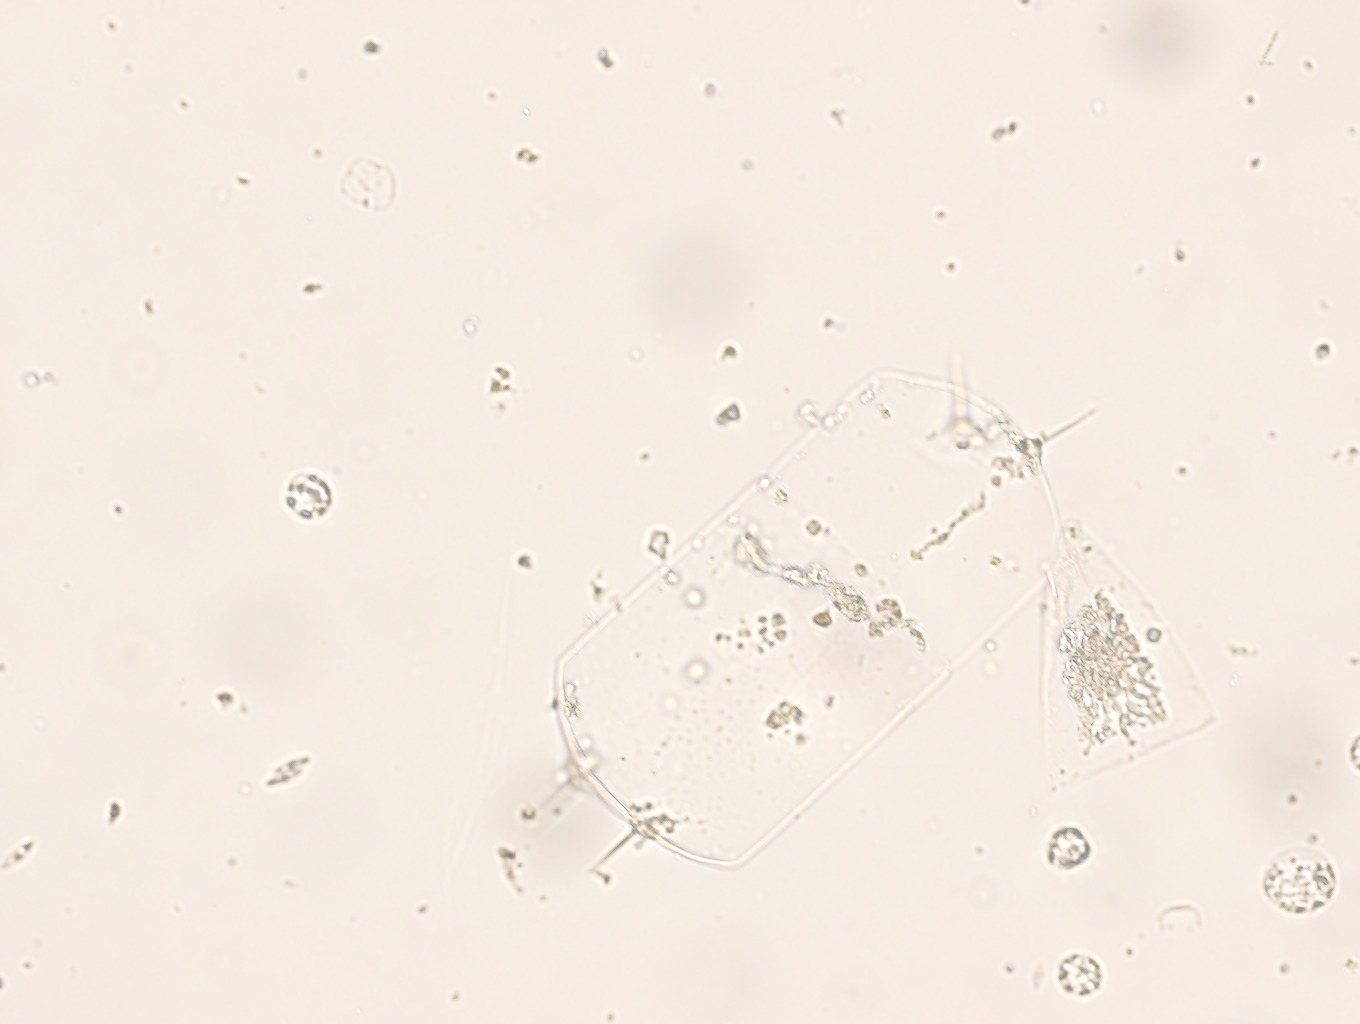biddulphia: (555, 376, 1096, 870)
helicotheca: (1037, 522, 1216, 800)
